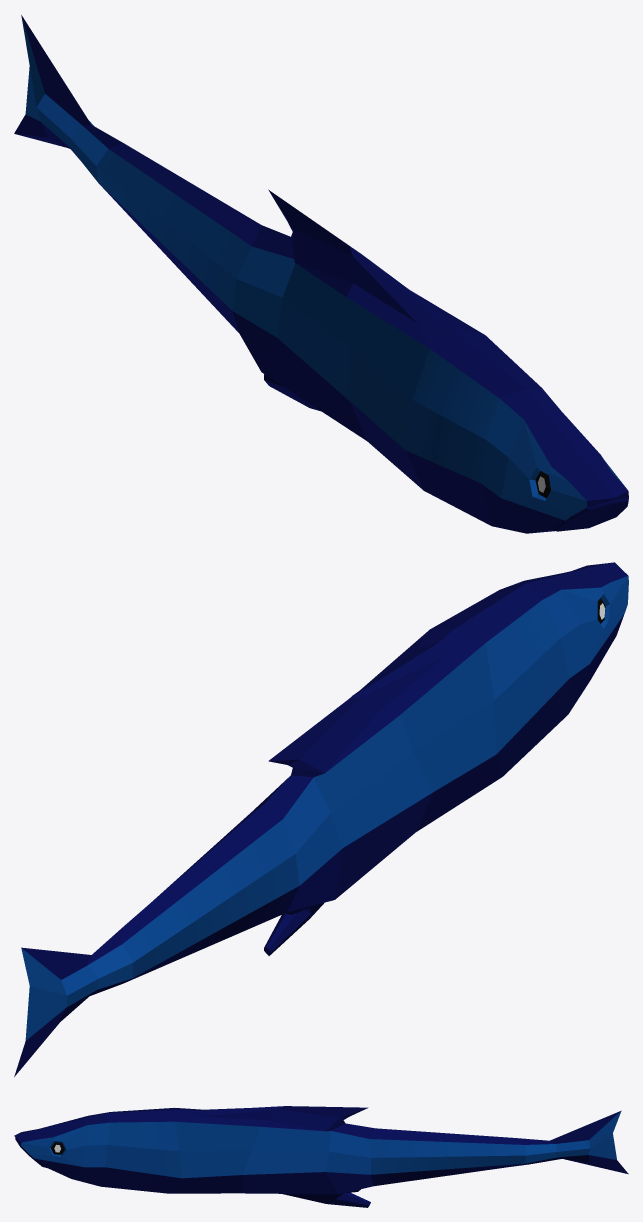
The model's file is Fish-3b.fbx.
3 renders of one model, top to bottom at view 1: azimuth 30°, elevation 25°; view 2: azimuth 150°, elevation 25°; view 3: azimuth 270°, elevation 25°, orthographic. The views are drawn at different scales.
Parts seen in each view (by area): view 1: Fish-3b; view 2: Fish-3b; view 3: Fish-3b.
Part boxes in pixels (left/top/right/bottom): Fish-3b: left=14, top=15, right=628, bottom=533; Fish-3b: left=14, top=562, right=628, bottom=1076; Fish-3b: left=14, top=1106, right=628, bottom=1207.
Size of the model in its own units: 0.0762 by 0.1587 by 0.868.
